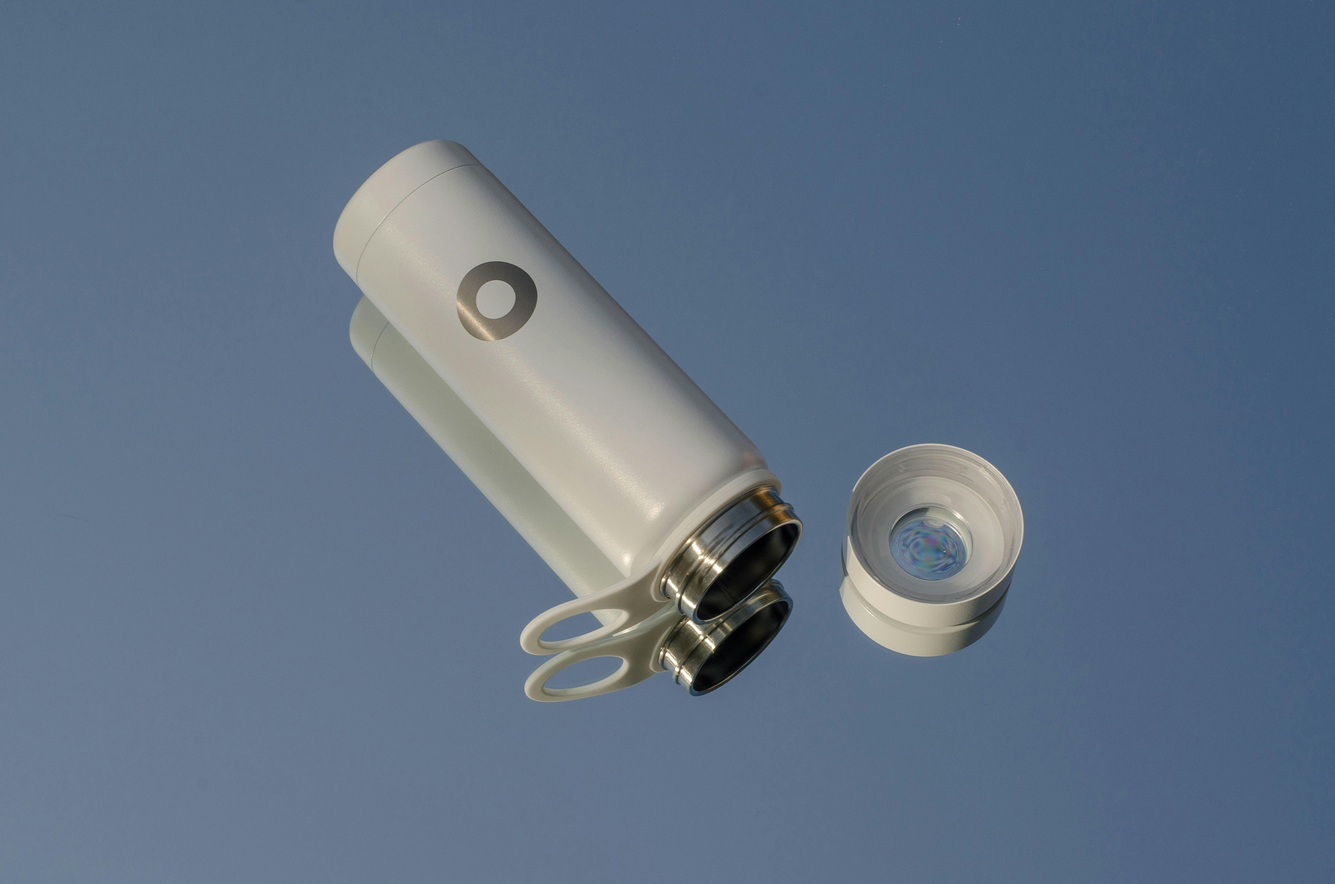Bottle-Detection: (274, 108, 832, 688)
